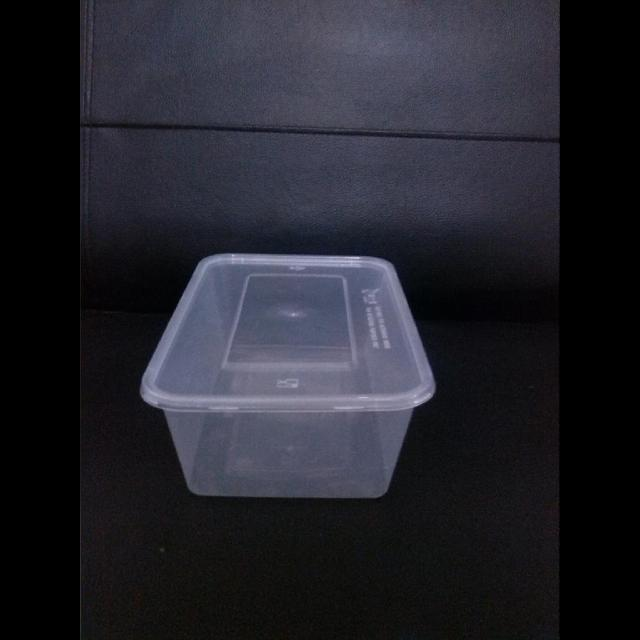plastic_box: (140, 252, 434, 498)
